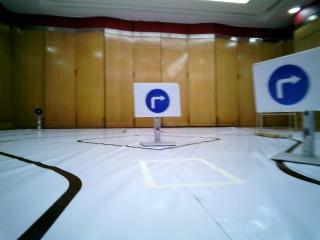right: (254, 66, 320, 111), (138, 86, 179, 114)
